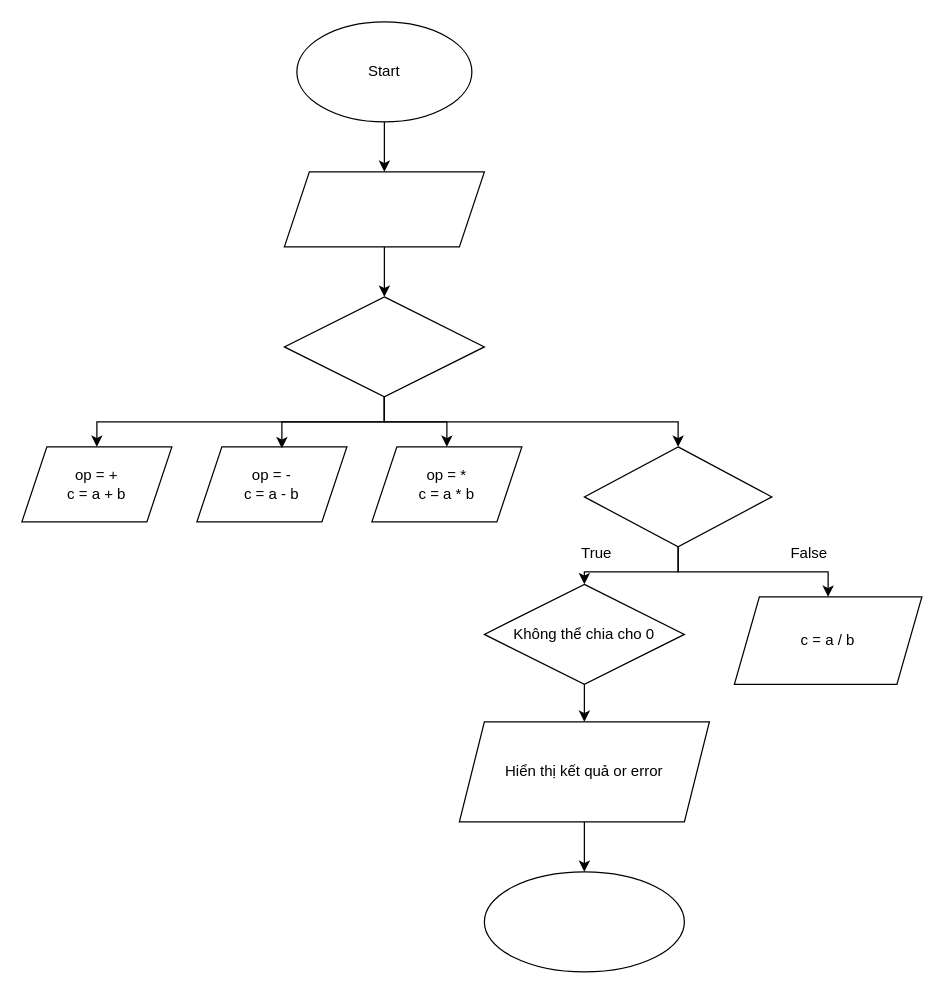
The diagram is 944 pixels wide and 994 high, and some of its shapes have lost their labels. Each missing label, with the centre of its shape:
End: the point at 583,921
Nhập a,b và phép tính: the point at 383,209
op = / b = ?: the point at 677,496
Phép tính(op) là gì ?: the point at 383,346
